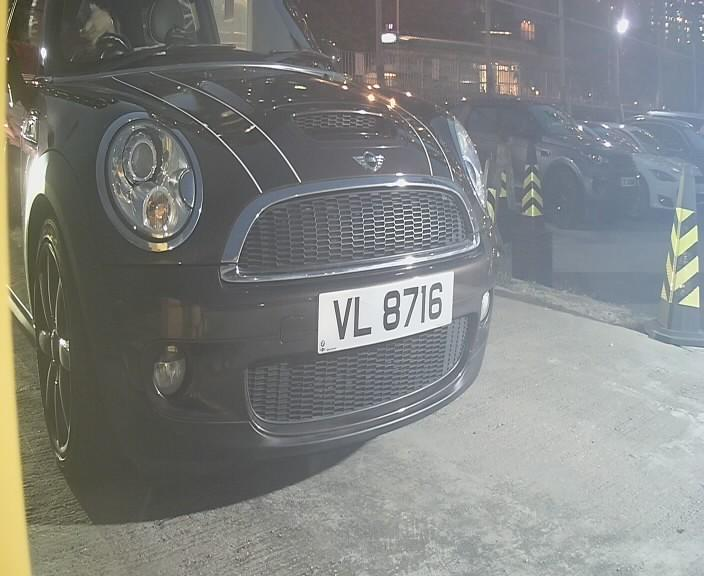License Plate: (302, 263, 463, 358)
